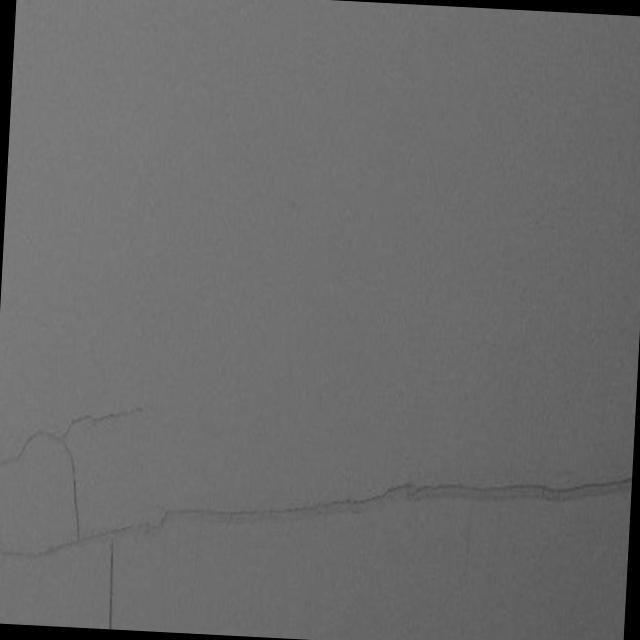crack: (150, 454, 622, 554), (8, 418, 142, 630)
